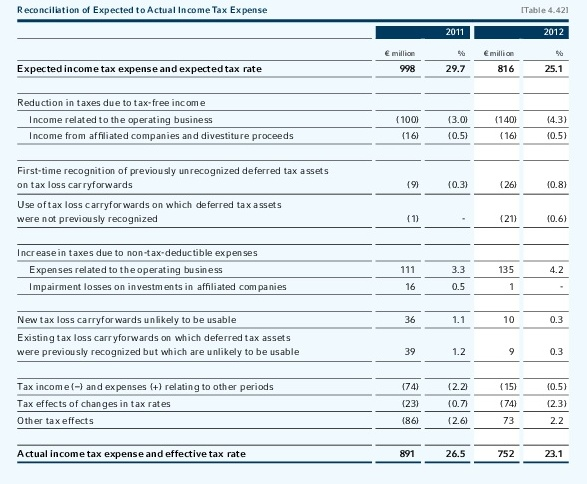table: (0, 0, 587, 484)
